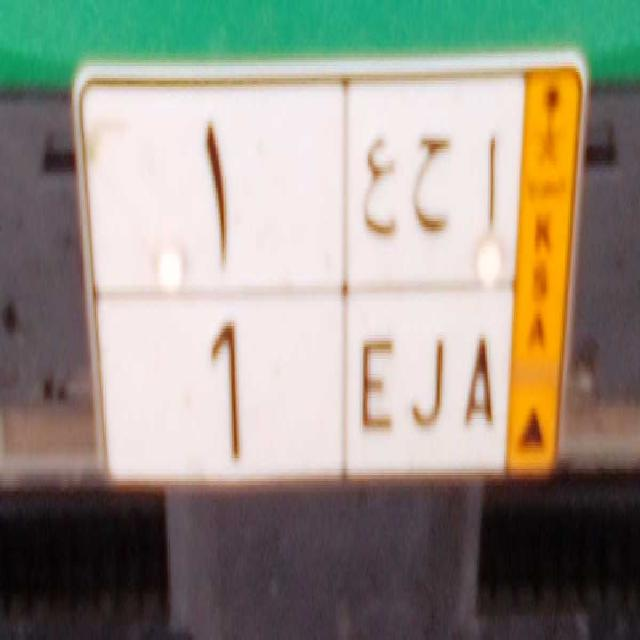license_plate: (92, 285, 513, 484)
